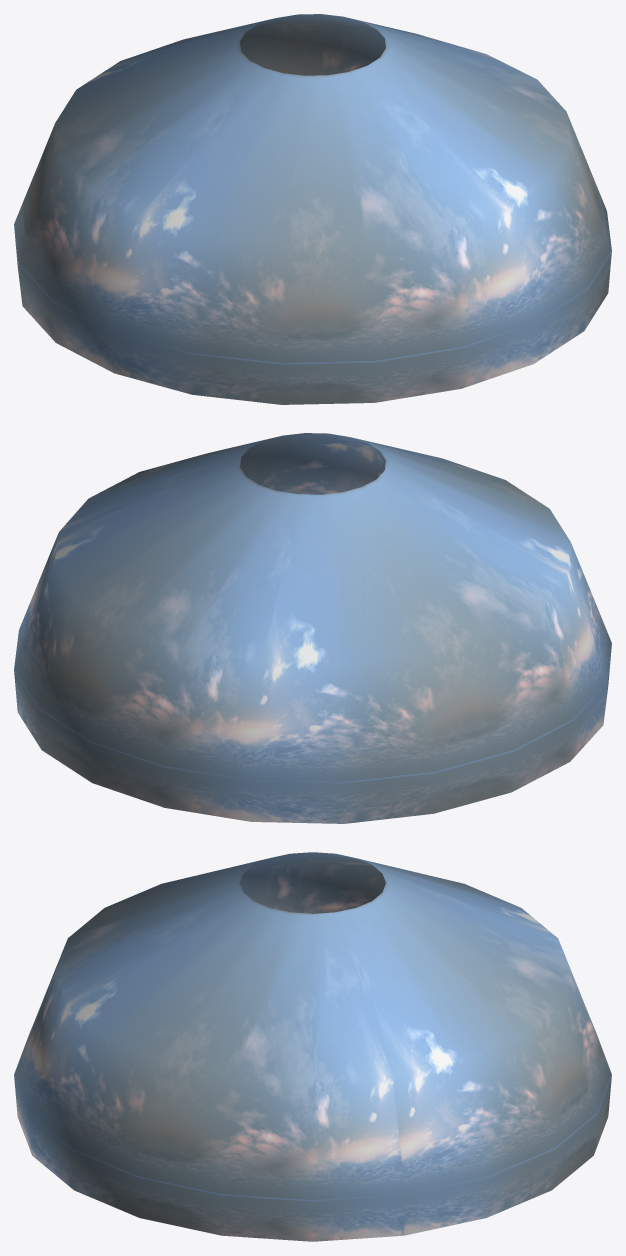
Rendered from skyStars.fbx.
The picture shows the model from 3 angles, top to bottom: view 1: azimuth 30°, elevation 25°; view 2: azimuth 150°, elevation 25°; view 3: azimuth 270°, elevation 25°; orthographic projection.
Visible parts, largest first — view 1: pSphere1; view 2: pSphere1; view 3: pSphere1.
Boxes of the visible parts, x1=… form: pSphere1: x1=14, y1=14, x2=611, y2=404; pSphere1: x1=14, y1=433, x2=611, y2=823; pSphere1: x1=14, y1=852, x2=611, y2=1241.
Size of the model in its own units: 2689 by 1161 by 2689.
